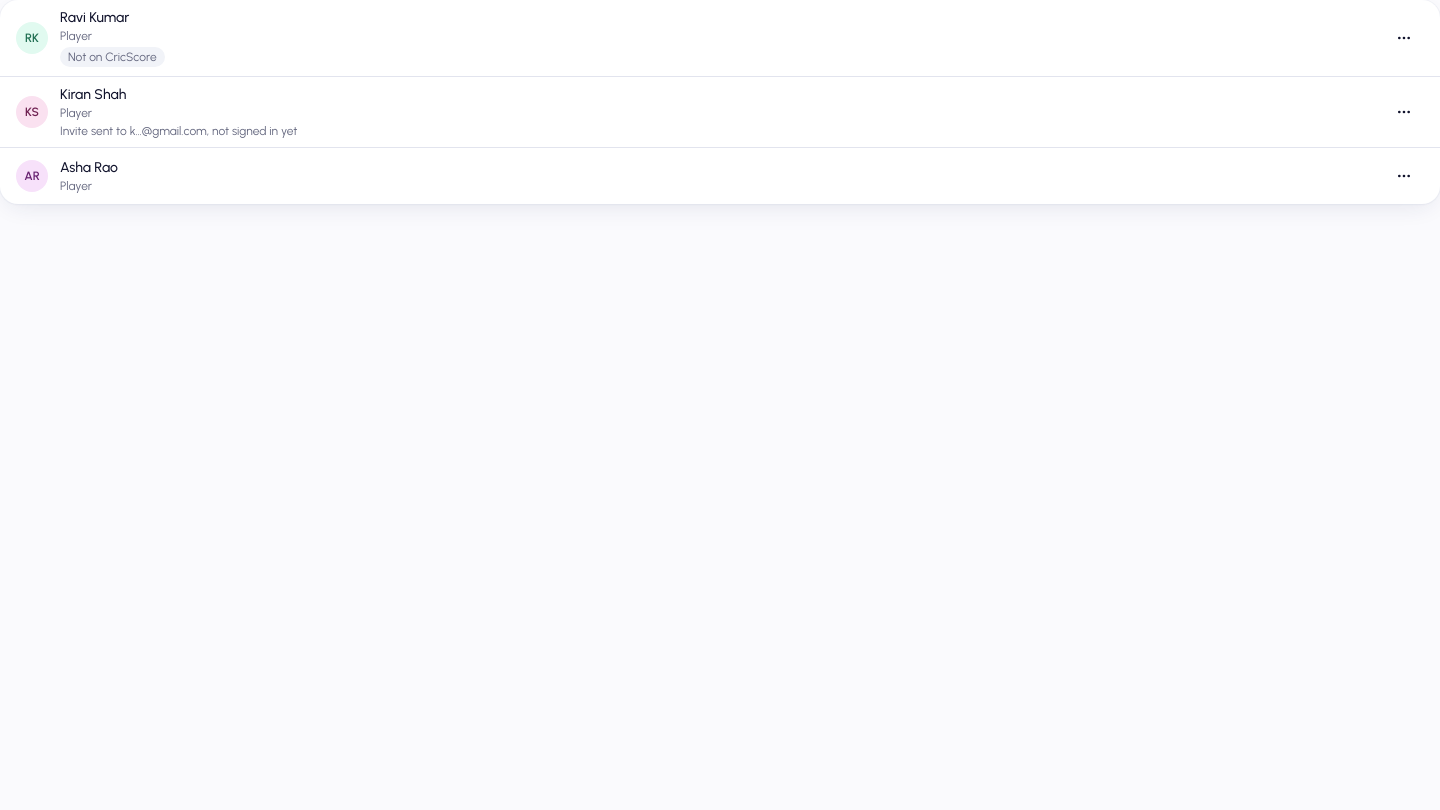
PlayerList claims › lets the admin remove a pending invite
Press the mouse on the button named "Player actions for Kiran Shah": (1404, 112) [1384, 92, 1424, 132]
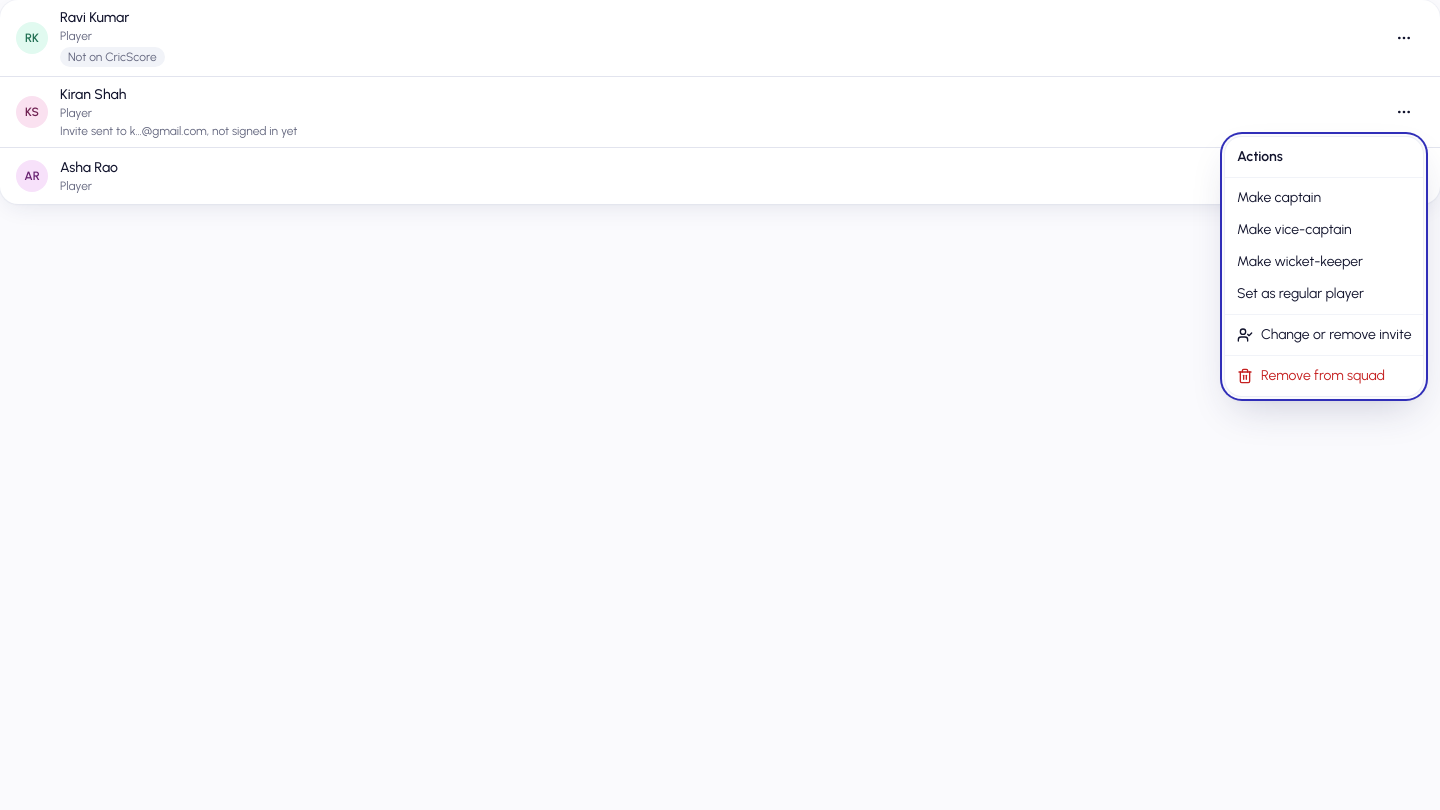
Click the menu item "Change or remove invite": click(1324, 334) [1237, 326, 1412, 343]
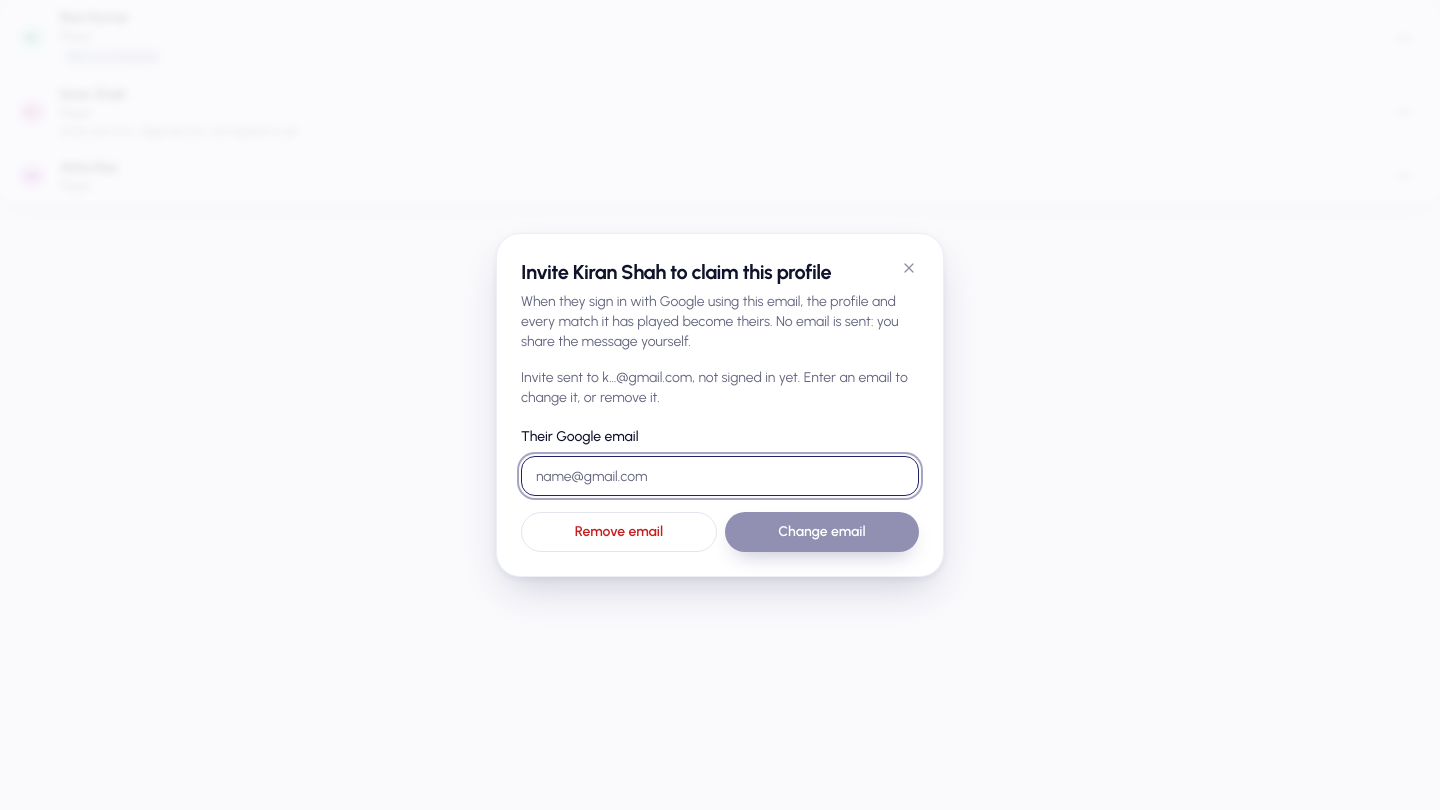
Expected: the dialog shows "Invite sent to k…@gmail.com", [496, 233, 944, 577]
Click the button "Remove email": click(619, 532) [521, 512, 717, 552]
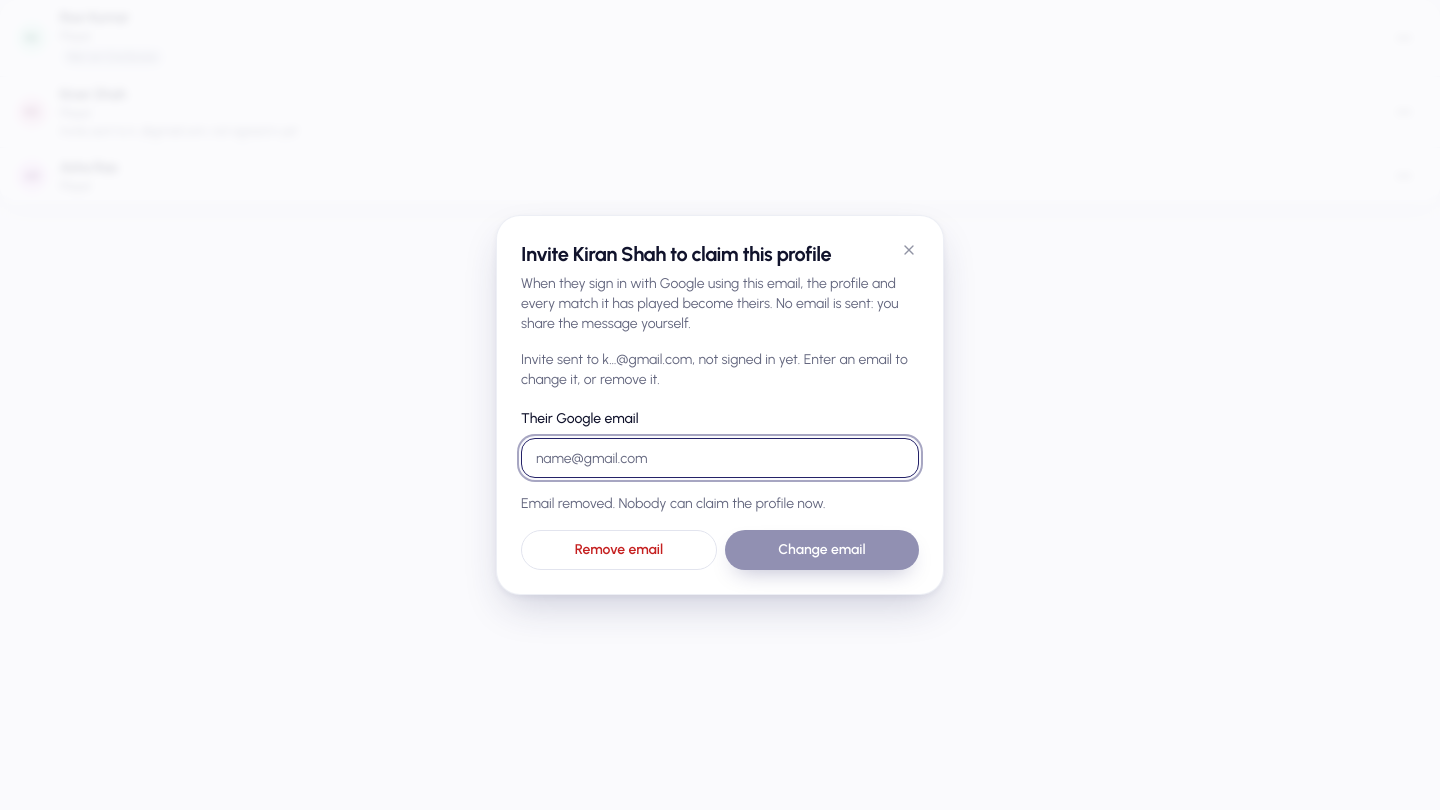
Expected: the message shows "Email removed", [521, 495, 826, 512]
